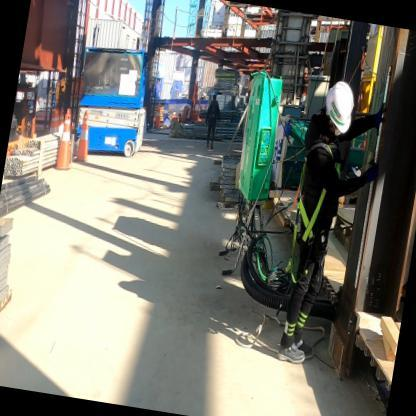Helmet: (320, 67, 364, 137)
safety-shoe: (270, 337, 310, 375)
